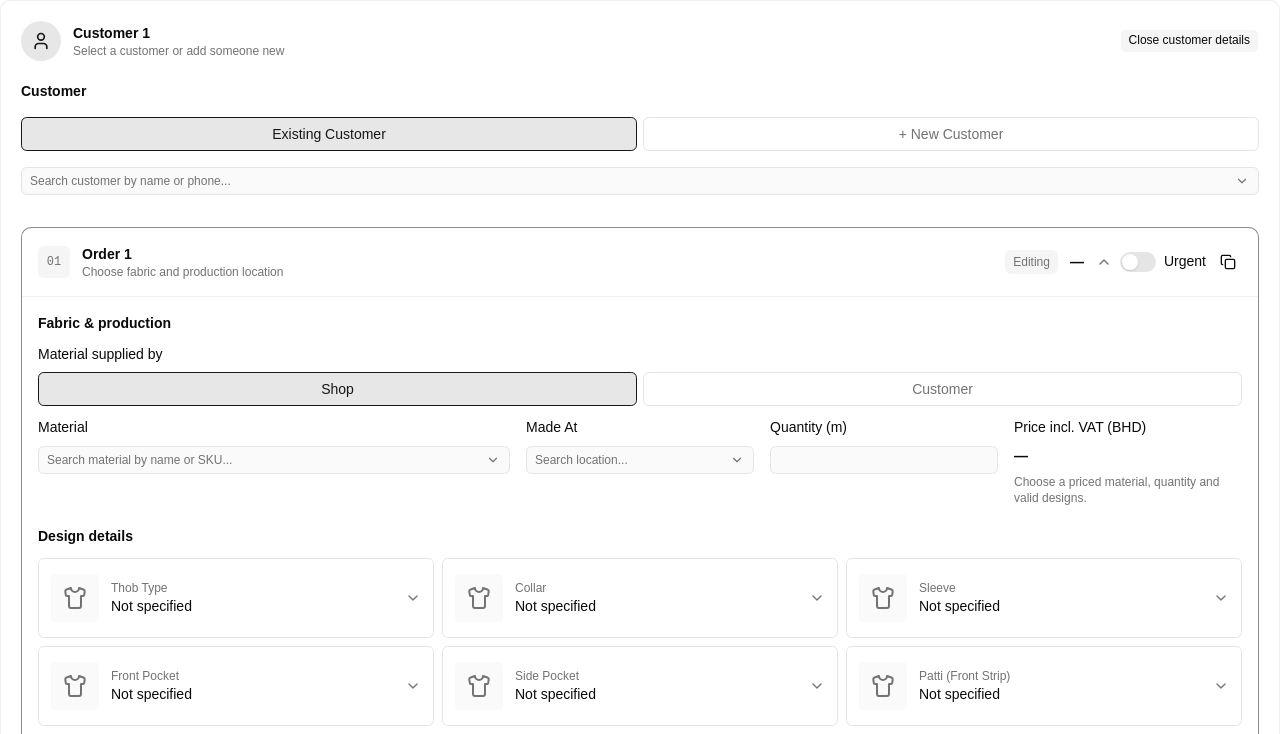
Test: CustomerBlock › filters the customer list by the typed search text
The width and height of the screenshot is (1280, 734).
Press the mouse on the dropdown with placeholder "Search customer by name or phone..." at (626, 181), box [22,167,1230,195]
Press the mouse on the dropdown with placeholder "Search customer by name or phone..." at (626, 181), box [22,167,1230,195]
Type "Fatima" into the dropdown with placeholder "Search customer by name or phone..." at (626, 181), box [22,167,1230,195]
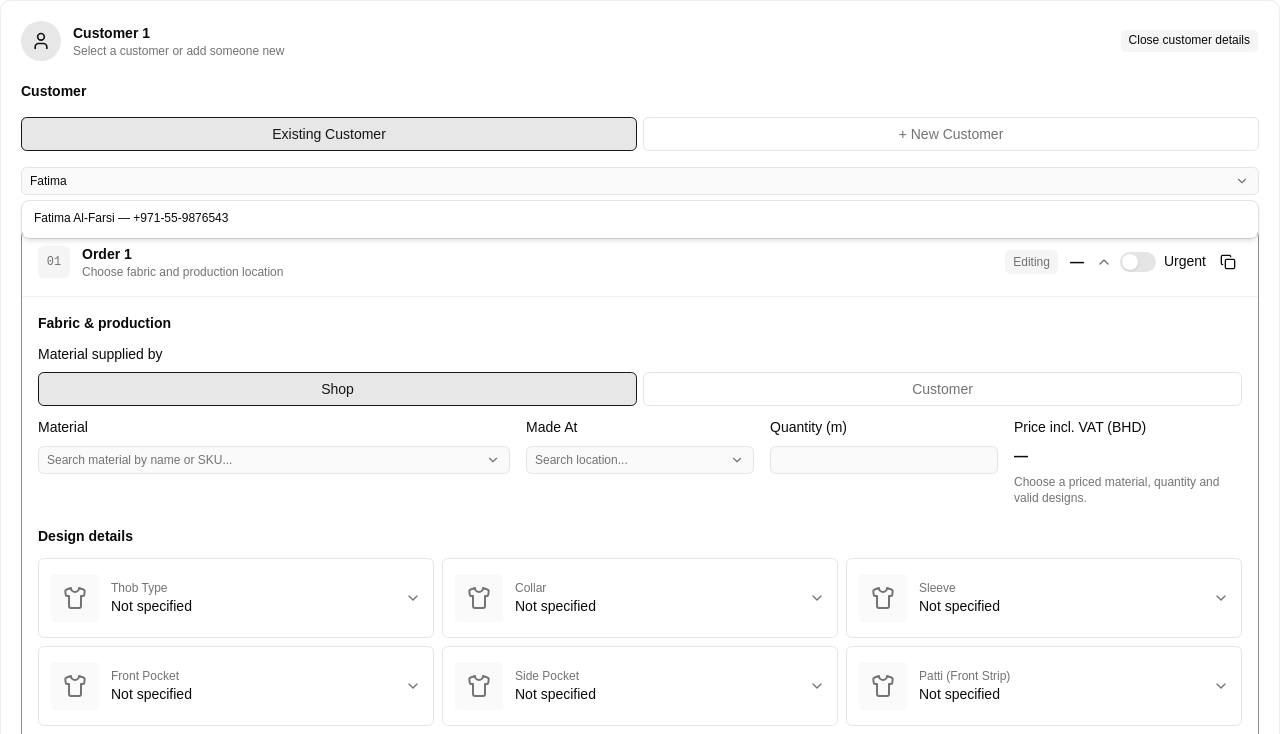
Expected: the option "Fatima Al-Farsi — +971-55-9876543" is shown, [34,211,228,225]
